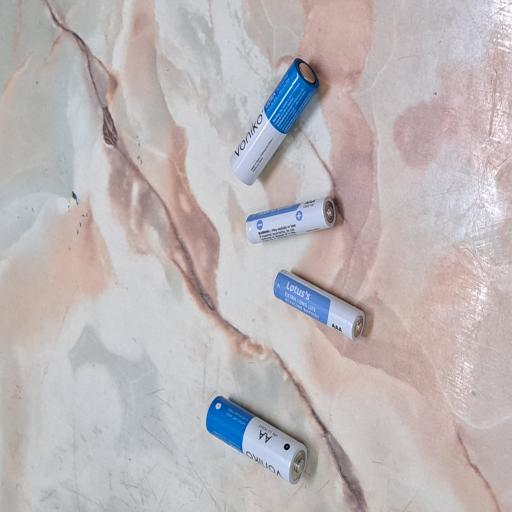battery: (245, 305, 342, 428), (21, 272, 88, 413), (128, 361, 183, 490), (198, 325, 238, 451)
